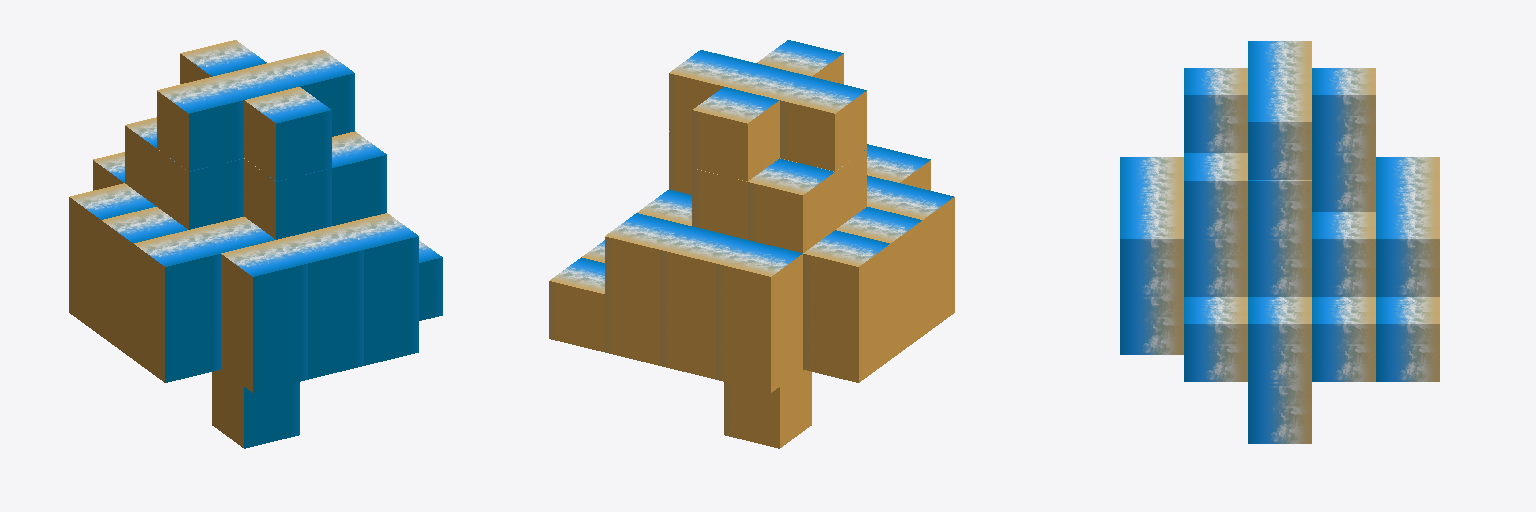
3 renders of one model, left to right at view 1: azimuth 30°, elevation 25°; view 2: azimuth 150°, elevation 25°; view 3: azimuth 270°, elevation 25°, orthographic.
Parts seen in each view (by area): view 1: Leaves.023_Cube.024, Leaves.043_Cube.044, Leaves.030_Cube.031, Leaves.041_Cube.042, Leaves.047_Cube.053, Leaves.017_Cube.018, Leaves.045_Cube.051, Leaves.029_Cube.030, Leaves.032_Cube.033, Leaves.028_Cube.029, Trunk_Cube, Leaves.049_Cube.055 (+13 smaller); view 2: Leaves.022_Cube.023, Leaves.042_Cube.043, Leaves.036_Cube.037, Leaves.041_Cube.042, Leaves.050_Cube.056, Leaves.016_Cube.017, Leaves.035_Cube.036, Leaves.038_Cube.039, Leaves.034_Cube.035, Trunk_Cube, Leaves.008_Cube.057, Leaves.023_Cube.024 (+13 smaller); view 3: Leaves.049_Cube.055, Leaves.002_Cube.003, Leaves.003_Cube.004, Leaves.006_Cube.007, Leaves.010_Cube.011, Leaves.028_Cube.029, Leaves.034_Cube.035, Leaves.042_Cube.043, Leaves.043_Cube.044, Leaves.044_Cube.045, Leaves.008_Cube.057, Leaves.046_Cube.052 (+11 smaller).
Boxes of the visible parts, <box> form: Leaves.023_Cube.024: <box>133,230,220,324</box>; Leaves.043_Cube.044: <box>244,87,331,181</box>; Leaves.030_Cube.031: <box>221,240,307,334</box>; Leaves.041_Cube.042: <box>157,77,243,171</box>; Leaves.047_Cube.053: <box>244,158,331,239</box>; Leaves.017_Cube.018: <box>133,302,220,382</box>; Leaves.045_Cube.051: <box>157,149,243,229</box>; Leaves.029_Cube.030: <box>221,312,307,392</box>; Leaves.032_Cube.033: <box>277,226,363,320</box>; Leaves.028_Cube.029: <box>332,213,418,307</box>; Trunk_Cube: <box>212,371,299,448</box>; Leaves.049_Cube.055: <box>332,131,386,225</box>; Leaves.022_Cube.023: <box>803,230,890,324</box>; Leaves.042_Cube.043: <box>692,87,779,181</box>; Leaves.036_Cube.037: <box>716,240,802,334</box>; Leaves.041_Cube.042: <box>780,77,866,171</box>; Leaves.050_Cube.056: <box>748,159,834,252</box>; Leaves.016_Cube.017: <box>803,302,890,382</box>; Leaves.035_Cube.036: <box>716,312,802,392</box>; Leaves.038_Cube.039: <box>660,226,746,320</box>; Leaves.034_Cube.035: <box>605,213,691,307</box>; Trunk_Cube: <box>724,371,811,448</box>; Leaves.008_Cube.057: <box>549,257,604,351</box>; Leaves.023_Cube.024: <box>867,183,954,277</box>; Leaves.049_Cube.055: <box>1184,153,1247,238</box>; Leaves.002_Cube.003: <box>1248,297,1311,381</box>; Leaves.003_Cube.004: <box>1312,297,1375,381</box>; Leaves.006_Cube.007: <box>1184,297,1247,381</box>; Leaves.010_Cube.011: <box>1312,212,1375,296</box>; Leaves.028_Cube.029: <box>1120,212,1183,296</box>; Leaves.034_Cube.035: <box>1376,212,1439,296</box>; Leaves.042_Cube.043: <box>1312,68,1375,152</box>; Leaves.043_Cube.044: <box>1184,68,1247,152</box>; Leaves.044_Cube.045: <box>1248,95,1311,179</box>; Leaves.008_Cube.057: <box>1376,297,1439,381</box>; Leaves.046_Cube.052: <box>1312,153,1375,211</box>.
Bounding box in the file's own units: 5 × 6 × 5.
2 materials, 1 textured.